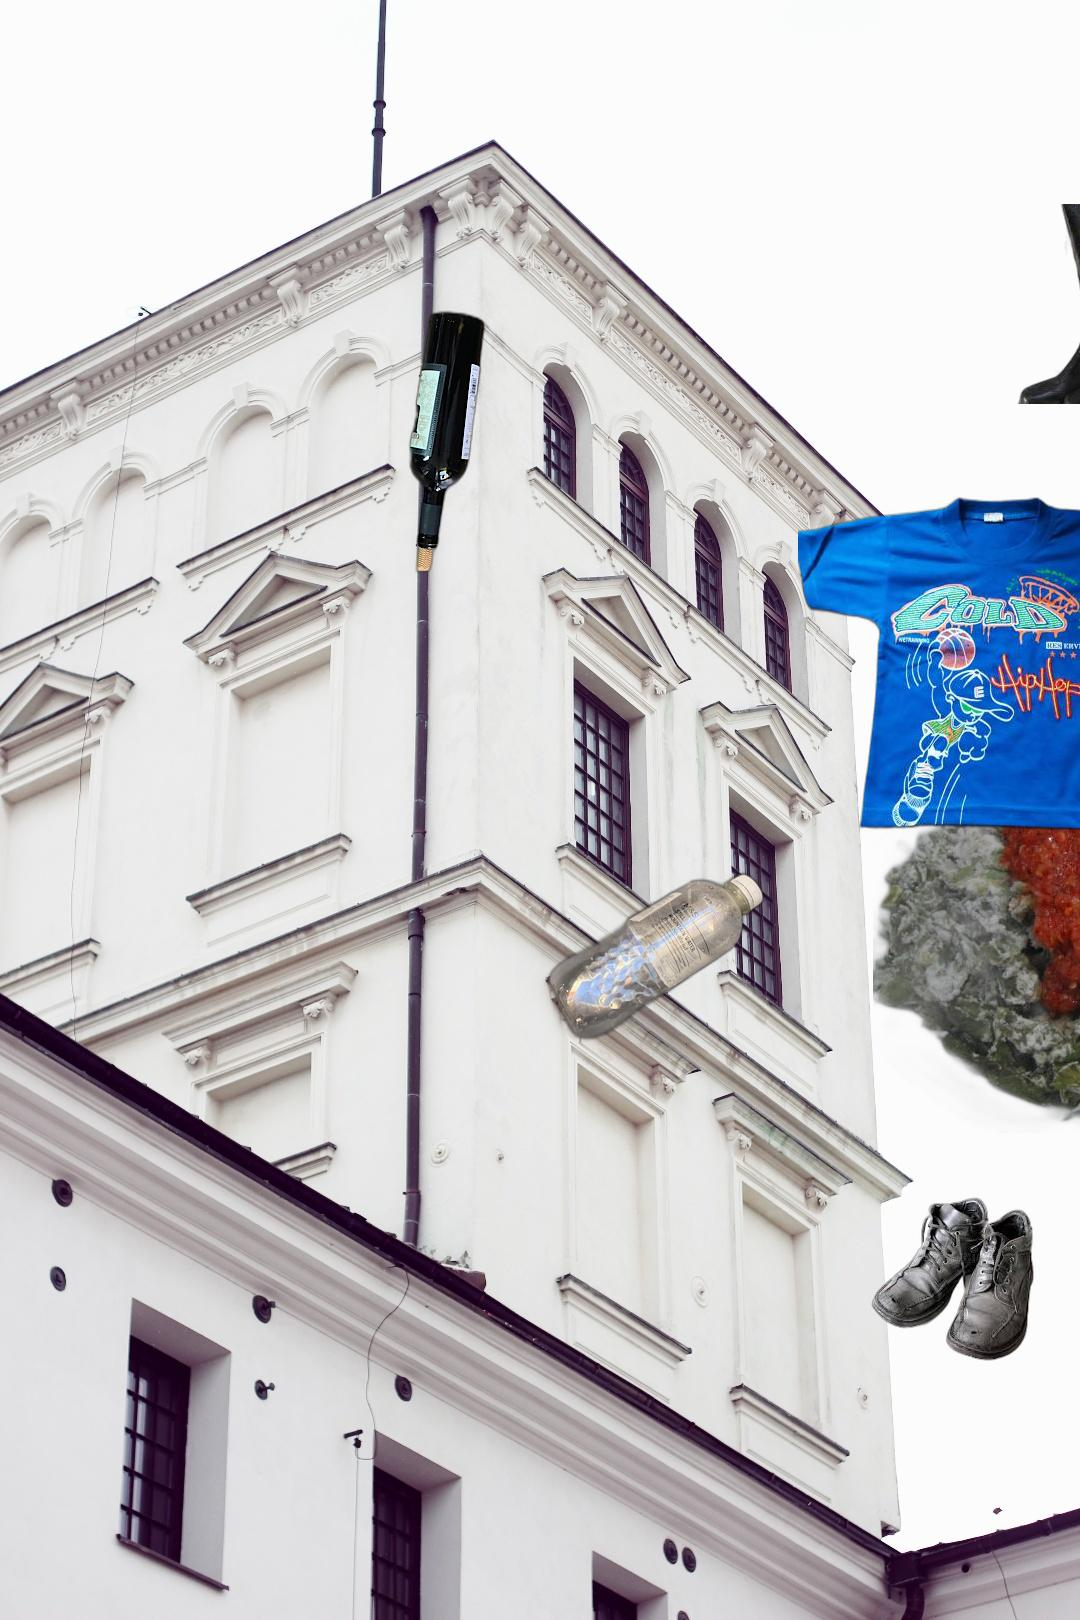biological: (873, 721, 1080, 1133)
clothes: (798, 493, 1080, 837)
glass: (405, 306, 489, 579)
plastic-bottles: (545, 867, 768, 1045)
shoes: (869, 1196, 1035, 1362), (1017, 204, 1080, 404)
